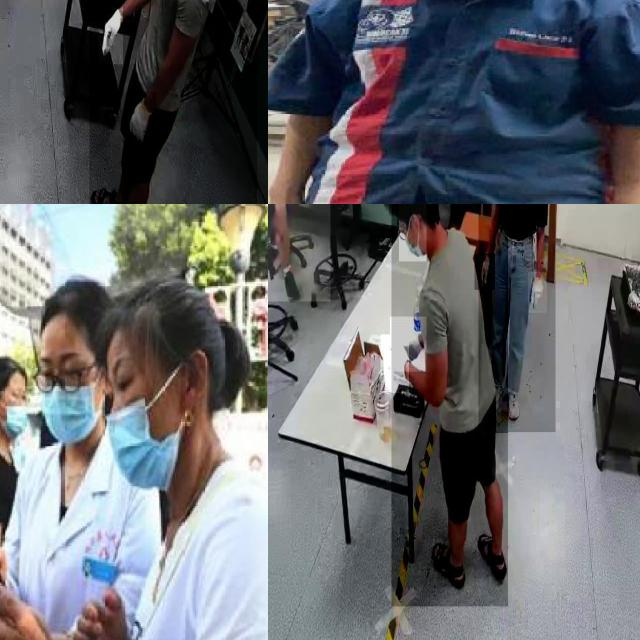face_mask: (105, 359, 168, 485), (38, 334, 101, 454), (0, 376, 30, 439), (399, 204, 426, 261)
glasses: (30, 361, 96, 398)
hand_glove: (390, 316, 426, 372), (381, 334, 409, 393), (99, 1, 123, 64), (128, 92, 157, 142), (528, 272, 548, 314), (475, 253, 495, 290)
hand_noglove: (70, 589, 130, 640), (0, 581, 50, 640), (269, 172, 303, 204)
head_nohelmet: (101, 290, 230, 360), (19, 277, 107, 339), (0, 355, 27, 383)
person: (88, 288, 268, 640), (10, 257, 154, 640), (391, 204, 508, 607), (89, 0, 257, 204), (478, 204, 555, 433), (0, 346, 36, 563), (268, 204, 331, 302)
shoes: (502, 378, 524, 424), (283, 264, 307, 306)
